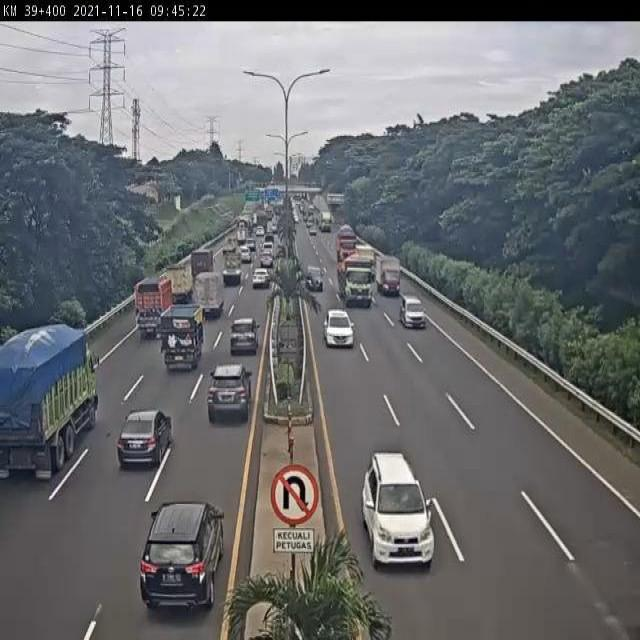car: (137, 500, 225, 617), (362, 454, 439, 570), (119, 408, 174, 469), (206, 363, 251, 424), (322, 309, 356, 351), (228, 315, 256, 357), (400, 294, 428, 334), (304, 262, 330, 294)
small truck: (194, 267, 226, 320)
truck-l-: (0, 328, 96, 483), (340, 262, 375, 310)
truck-m-: (160, 302, 207, 370), (130, 279, 173, 337)
